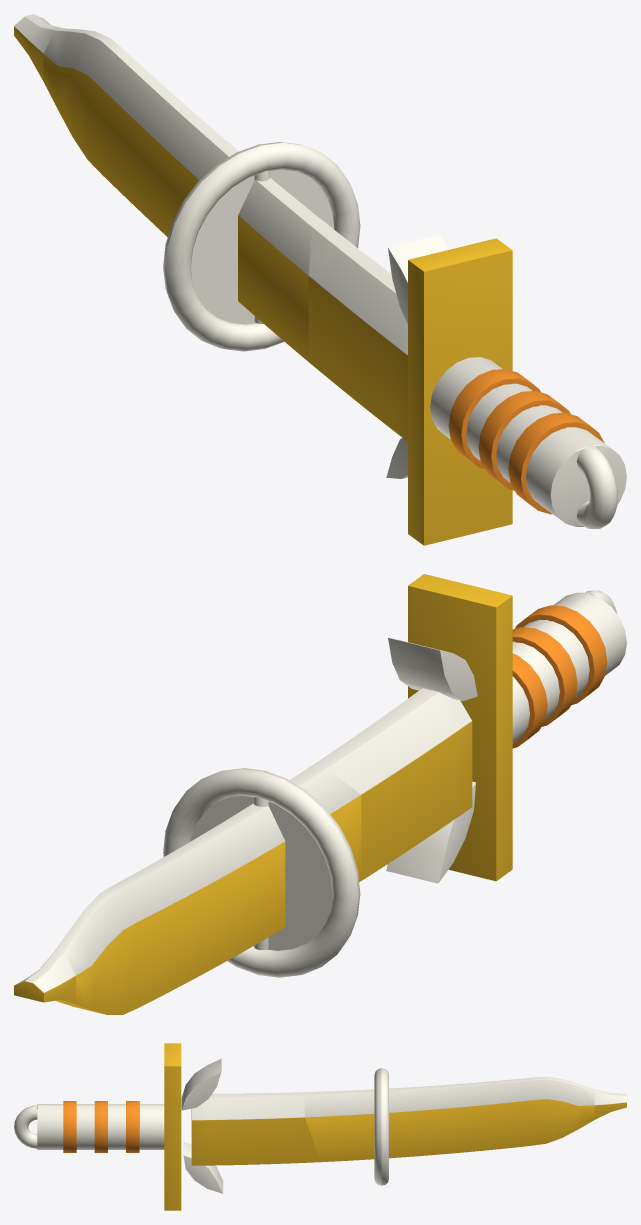
Rendered from Sword_HaloSaber.glb.
The picture shows the model from 3 angles, top to bottom: view 1: azimuth 30°, elevation 25°; view 2: azimuth 150°, elevation 25°; view 3: azimuth 270°, elevation 25°; orthographic projection. The views are drawn at different scales.
Parts seen in each view (by area): view 1: Sword_HaloSaber; view 2: Sword_HaloSaber; view 3: Sword_HaloSaber.
Part boxes in pixels (x1,y1,x2,y2): Sword_HaloSaber: [14, 14, 626, 545]; Sword_HaloSaber: [14, 574, 626, 1014]; Sword_HaloSaber: [14, 1043, 626, 1210].
Size of the model in its own units: 0.192 by 0.26 by 1.
1 material, 1 textured.
